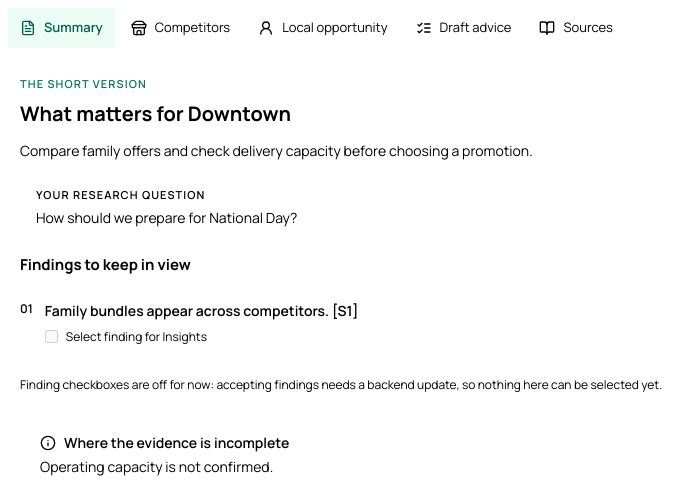
ReportReaderView acceptance › offers mark-reviewed with no feed writes when advice is empty
Click the button "Draft advice".
click(464, 28)  # box [404,8,524,48]
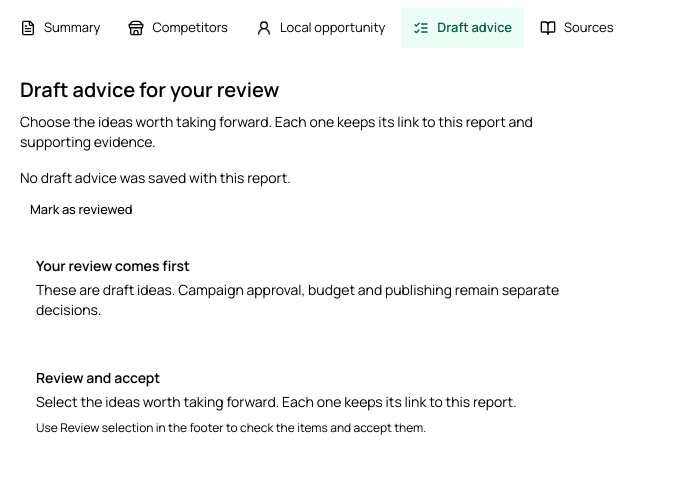
Now the text "No draft advice was saved with this report." is shown, box [20,168,291,186]
Click the button "Mark as reviewed".
click(81, 210)  # box [20,196,142,224]
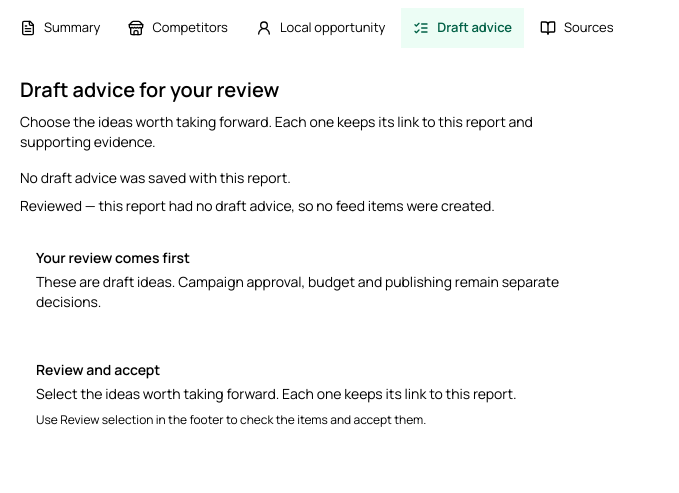
Now the text "Reviewed — this report had no draft advice, so no feed items were created." is shown, box [20,196,495,214]
